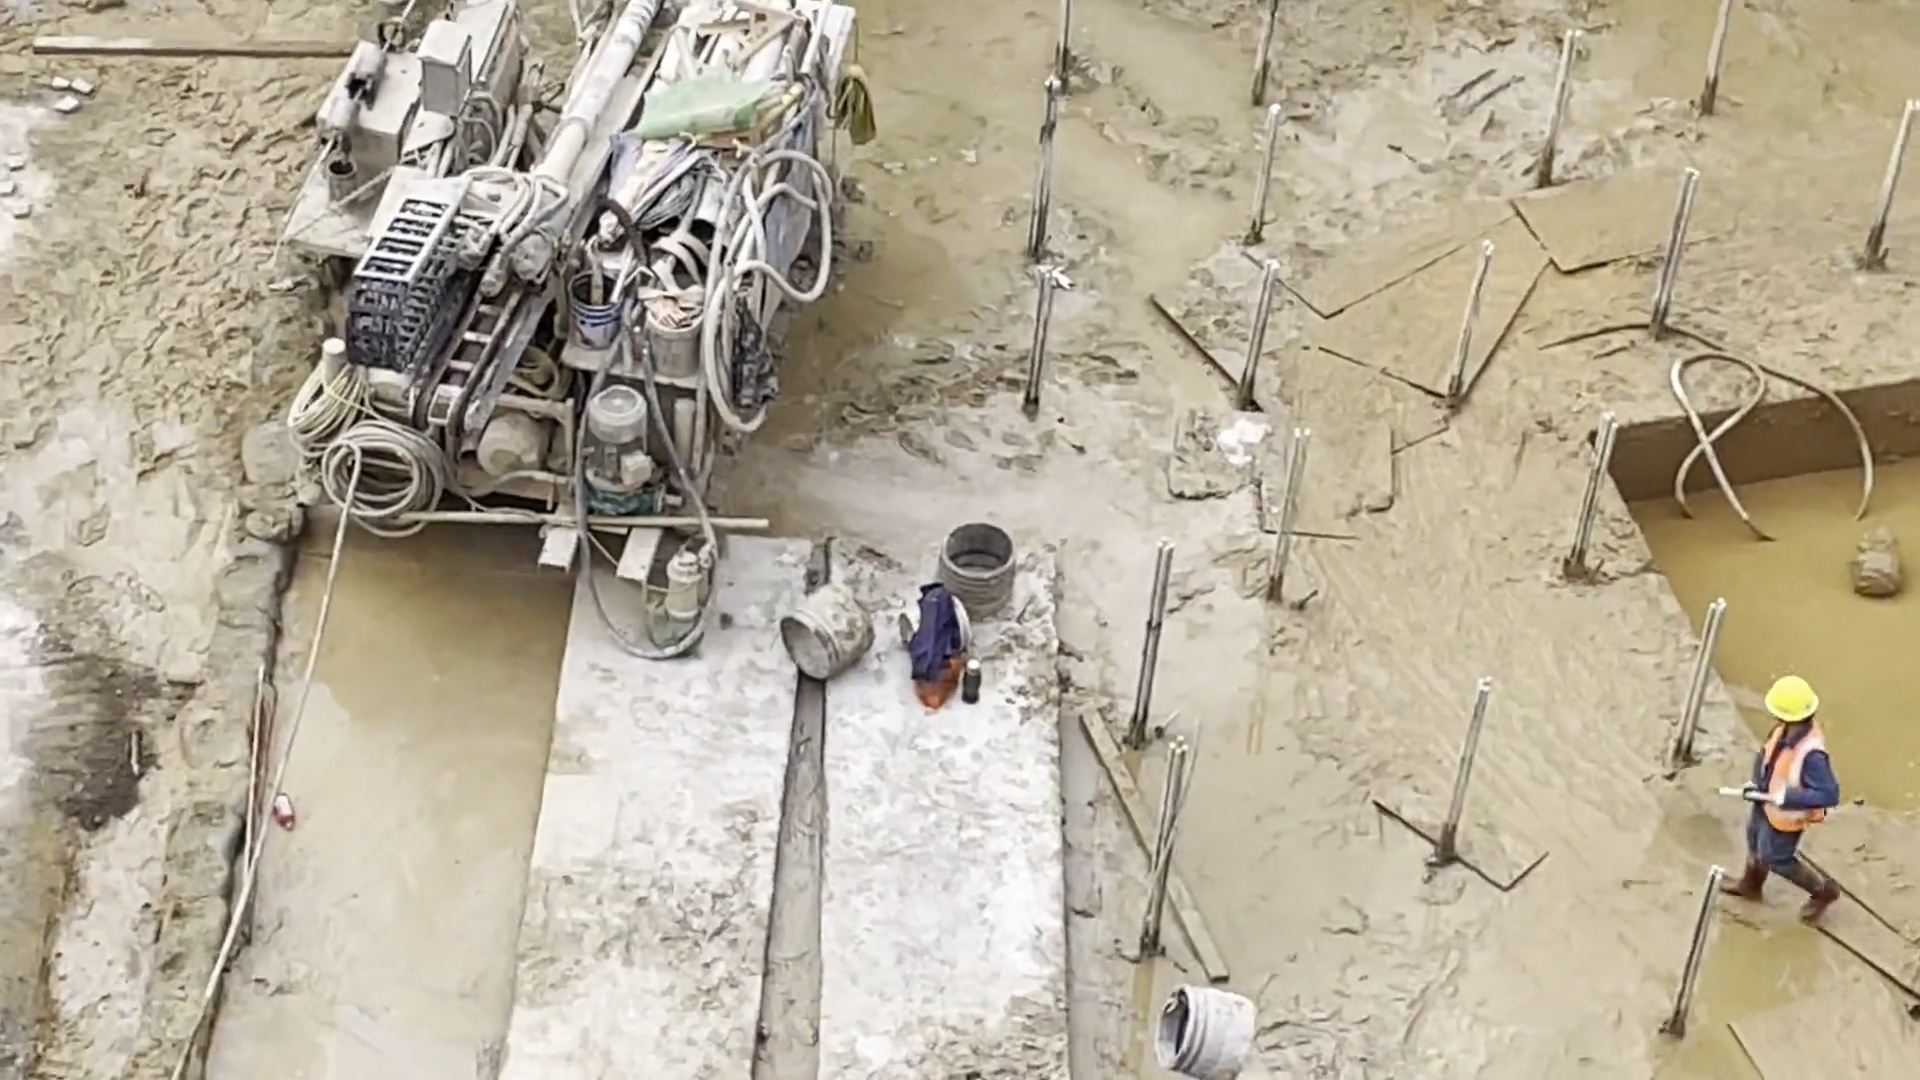helmet: (1765, 675, 1822, 722)
person: (1713, 672, 1849, 928)
vest: (1748, 721, 1826, 839)
